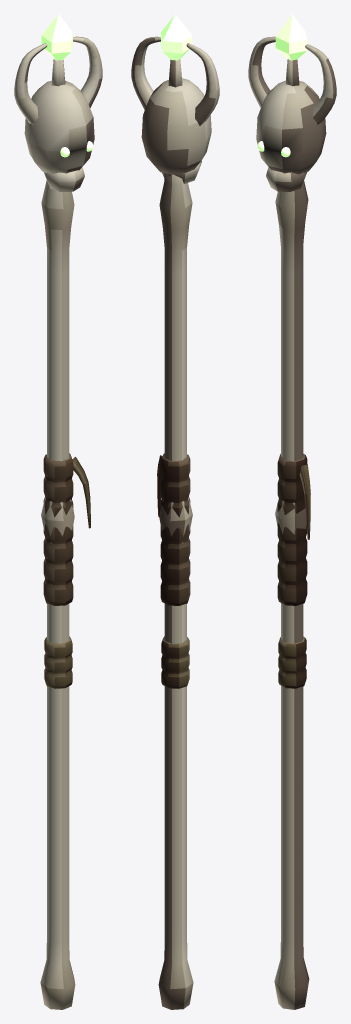
File: st_bone_staff.glb
3 renders of one model, left to right at view 1: azimuth 30°, elevation 25°; view 2: azimuth 150°, elevation 25°; view 3: azimuth 330°, elevation 25°, orthographic.
Visible parts, largest first — view 1: Weapon; view 2: Weapon; view 3: Weapon.
Part boxes in pixels (<box>): Weapon: <box>14,14,102,1009</box>; Weapon: <box>131,14,219,1009</box>; Weapon: <box>248,14,336,1009</box>.
Bounding box in the file's own units: 0.1607 × 1.79 × 0.1245.
